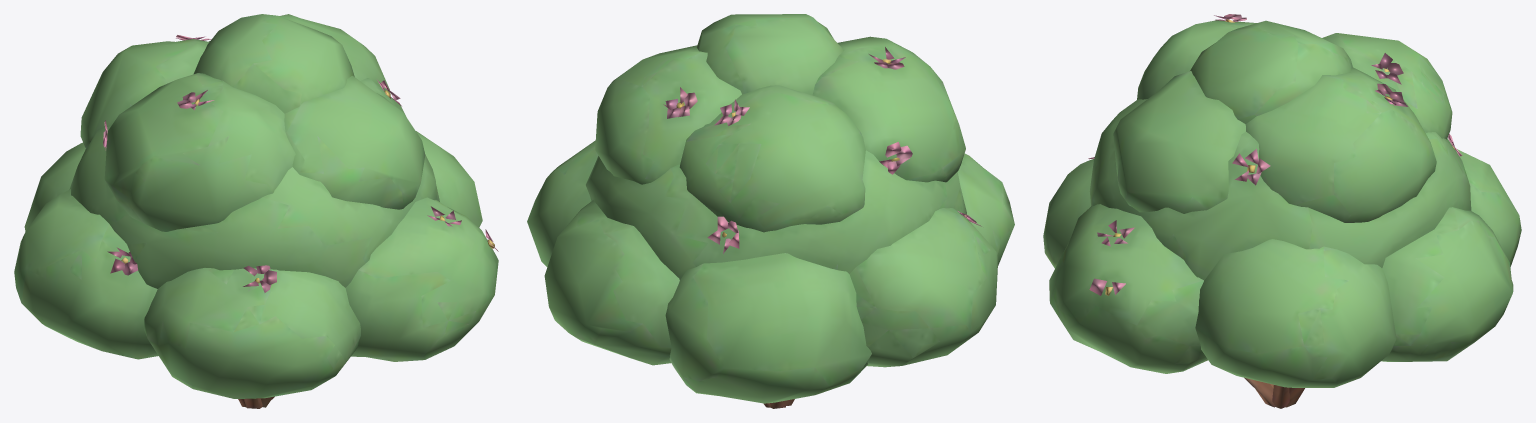
The model's file is bush.glb.
3 renders of one model, left to right at view 1: azimuth 30°, elevation 25°; view 2: azimuth 150°, elevation 25°; view 3: azimuth 270°, elevation 25°, orthographic.
Visible parts, largest first — view 1: bush_body; view 2: bush_body; view 3: bush_body.
Part boxes in pixels (x1,y1,x2,y2): bush_body: (14, 14, 498, 408); bush_body: (527, 14, 1014, 408); bush_body: (1043, 14, 1521, 408).
Bounding box in the file's own units: 1.32 × 1.09 × 1.26.
1 material, 1 textured.
